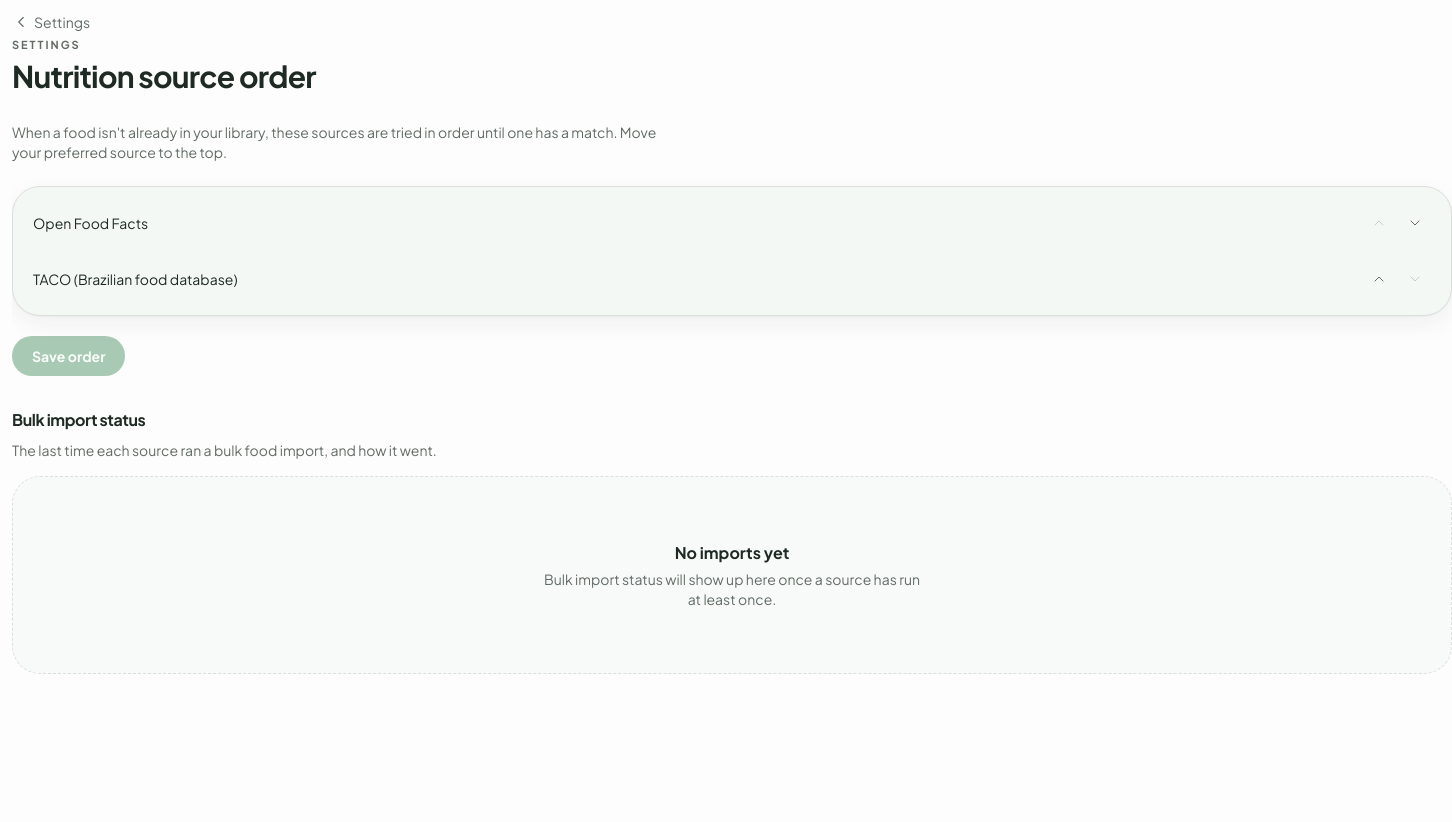
Test case: SourcePrecedence › saves the reordered list and shows a success message
Check: the text "Open Food Facts" is shown, box [33,214,148,232]
Click the button named "Move Open Food Facts down" at (1415, 222), box [1399,206,1431,238]
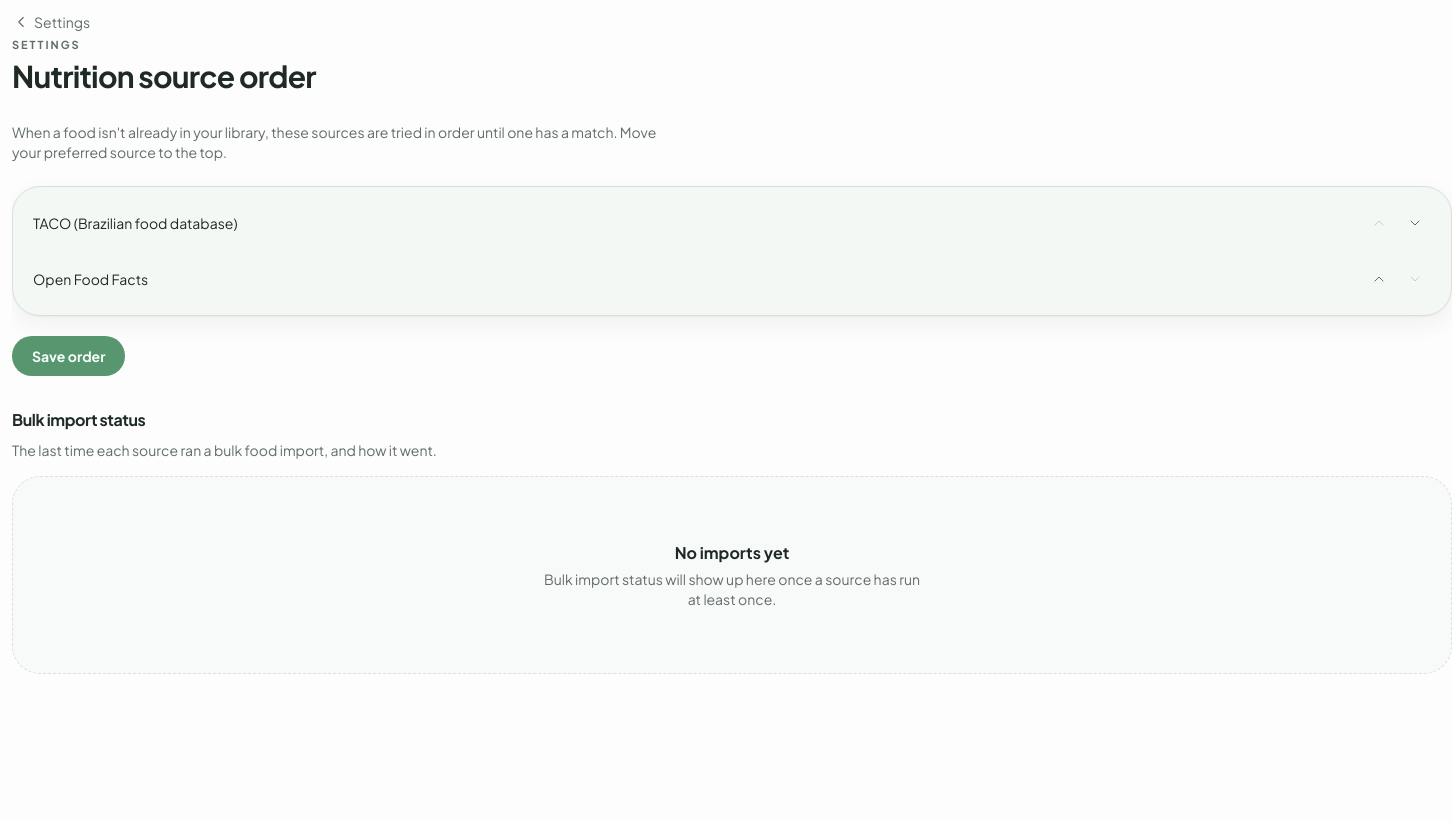
Click the button "Save order" at (69, 356), box [12,336,125,376]
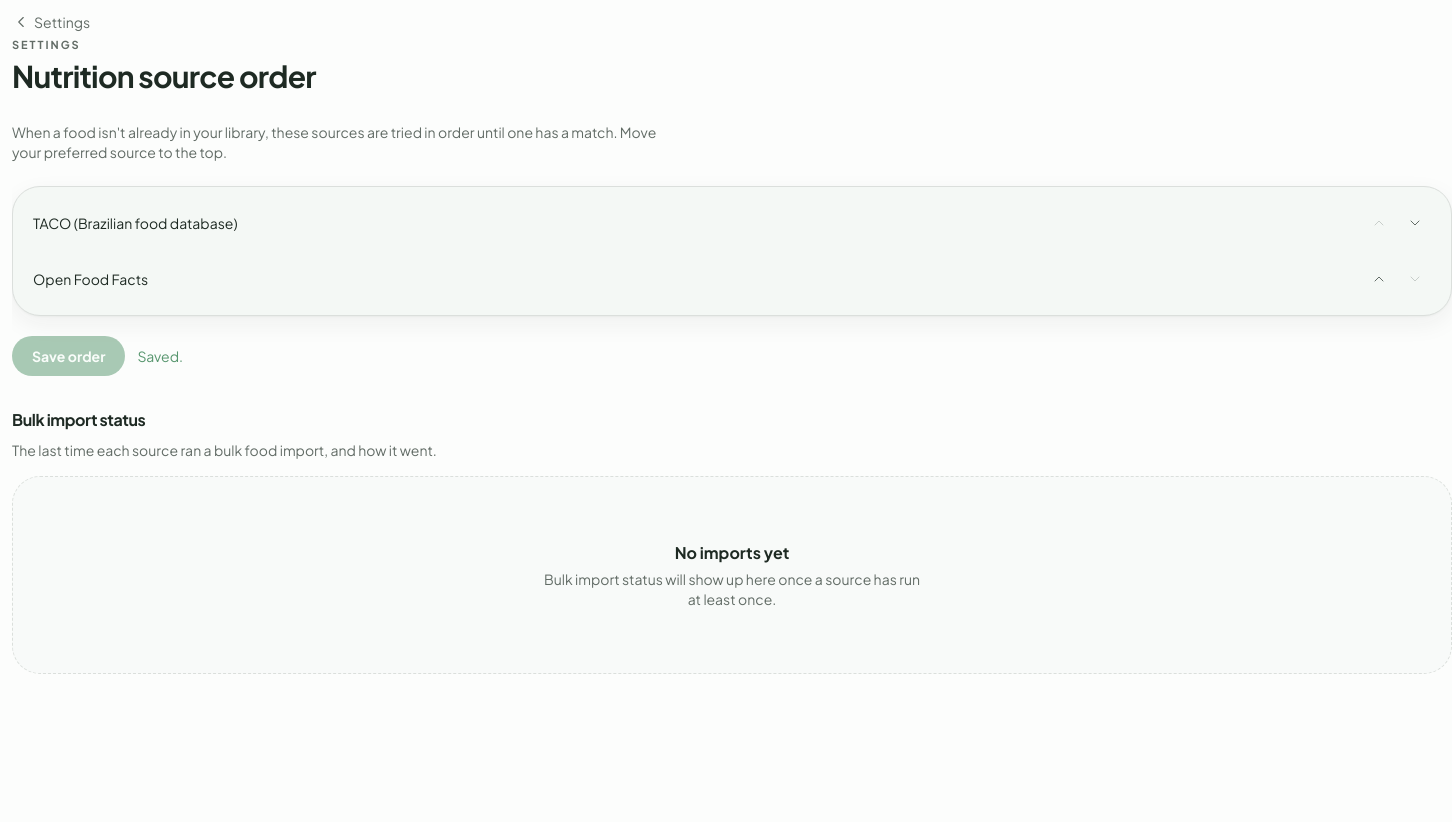
Check: the text "Saved." is shown, box [137,346,183,366]
